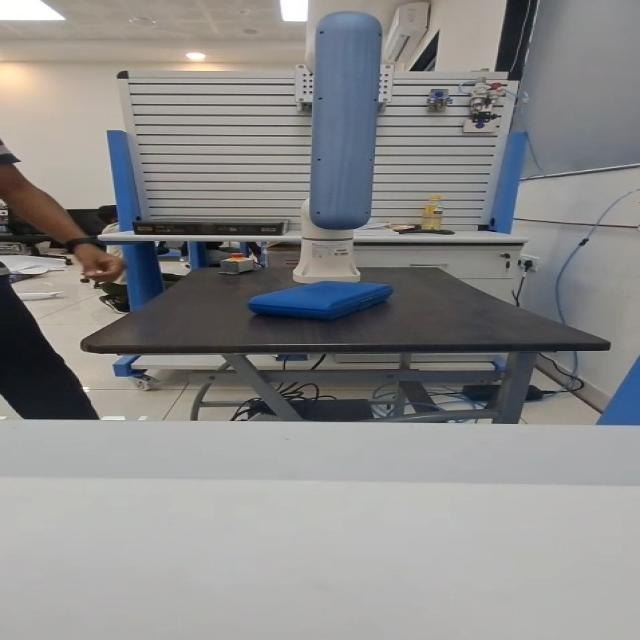top-surface: (274, 284, 370, 298)
